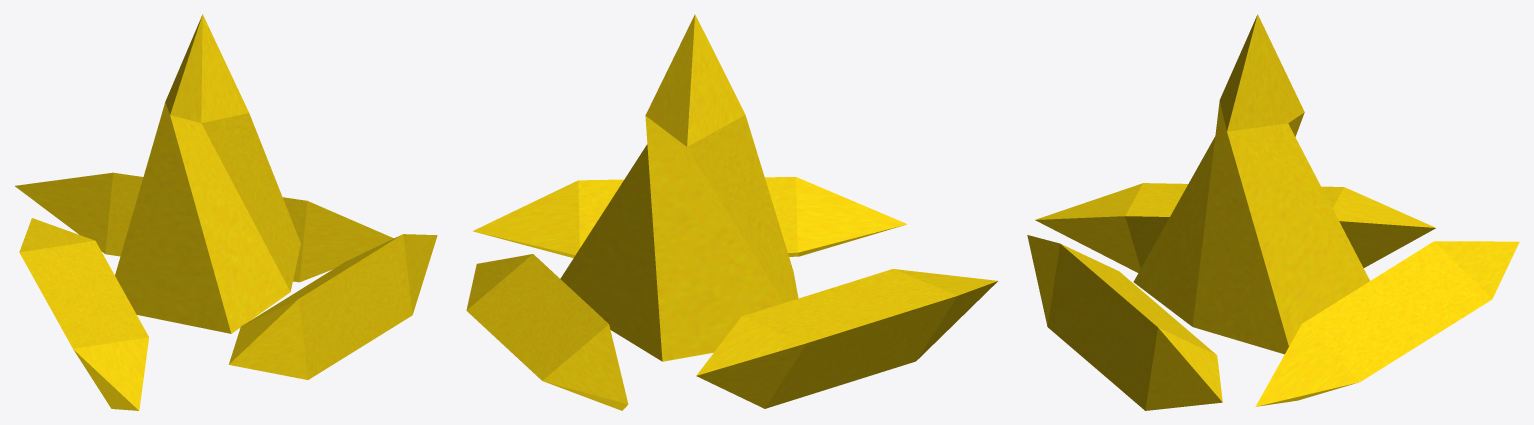
Rendered from clearing_ritual_main_block_lower.obj.
The picture shows the model from 3 angles, left to right: view 1: azimuth 30°, elevation 25°; view 2: azimuth 150°, elevation 25°; view 3: azimuth 270°, elevation 25°; orthographic projection. The views are drawn at different scales.
Parts seen in each view (by area): view 1: Cylinder.003, Cylinder, Cylinder.002, Cylinder.001; view 2: Cylinder.003, Cylinder.002, Cylinder.001, Cylinder; view 3: Cylinder.003, Cylinder.001, Cylinder, Cylinder.002.
Part boxes in pixels (left/top/right/bottom): Cylinder.003: left=115, top=14, right=300, bottom=333; Cylinder: left=228, top=234, right=437, bottom=379; Cylinder.002: left=19, top=218, right=148, bottom=410; Cylinder.001: left=15, top=172, right=393, bottom=282; Cylinder.003: left=560, top=14, right=798, bottom=361; Cylinder.002: left=696, top=269, right=997, bottom=408; Cylinder.001: left=466, top=254, right=628, bottom=410; Cylinder: left=473, top=177, right=907, bottom=257; Cylinder.003: left=1133, top=14, right=1369, bottom=354; Cylinder.001: left=1255, top=241, right=1519, bottom=406; Cylinder: left=1027, top=235, right=1222, bottom=410; Cylinder.002: left=1035, top=183, right=1435, bottom=272.
Bounding box in the file's own units: 4.7 × 3.57 × 4.73.
